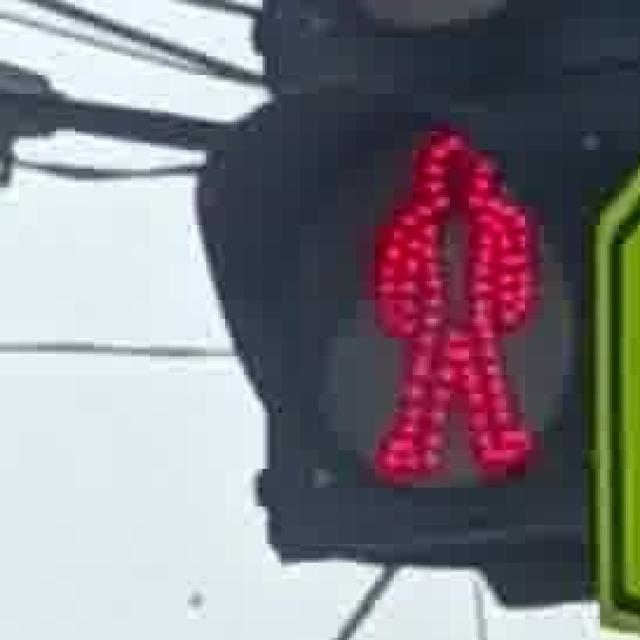red_light: (342, 103, 549, 497)
